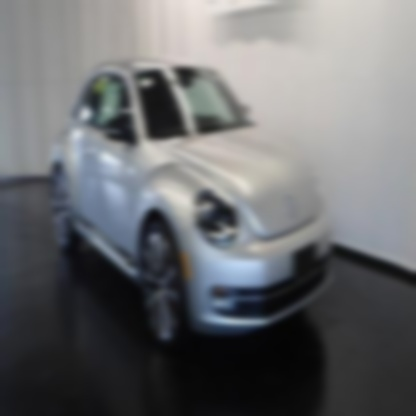Vehicle: (50, 56, 330, 352)
